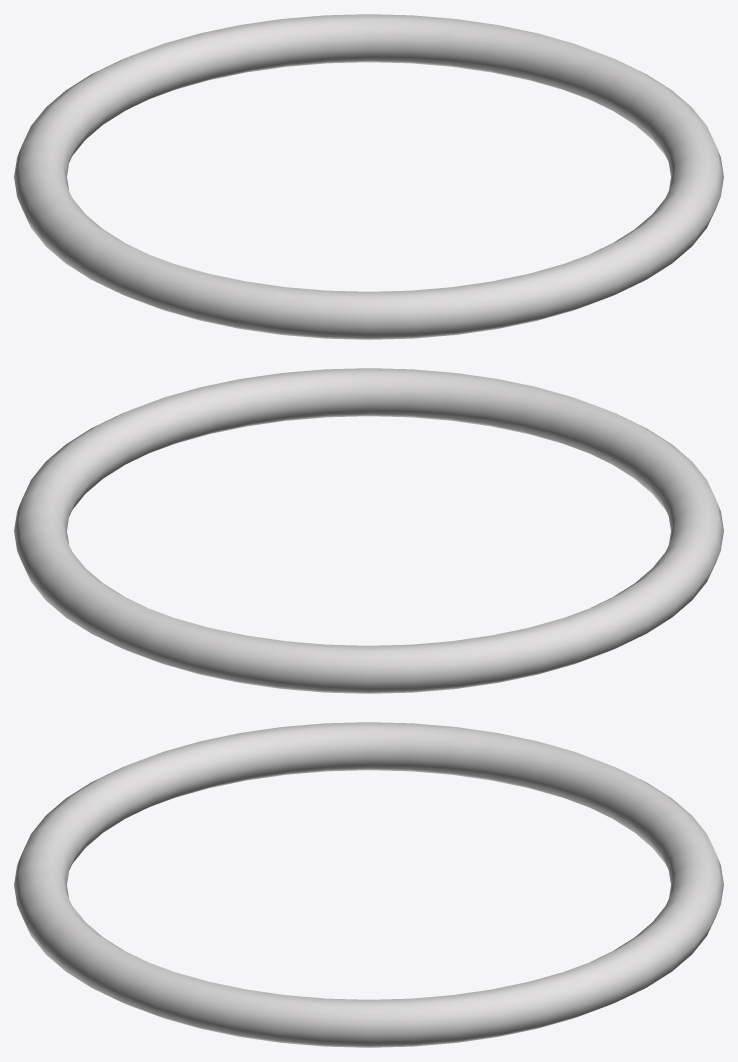
The model's file is Acc_HaloR1.glb.
The picture shows the model from 3 angles, top to bottom: view 1: azimuth 30°, elevation 25°; view 2: azimuth 150°, elevation 25°; view 3: azimuth 270°, elevation 25°; orthographic projection.
Parts seen in each view (by area): view 1: HaloR1; view 2: HaloR1; view 3: HaloR1.
Part boxes in pixels (box(x1,y1,x2,y2)): HaloR1: box(14, 14, 723, 339); HaloR1: box(14, 368, 723, 693); HaloR1: box(14, 722, 723, 1047).
Size of the model in its own units: 1.34 by 0.0856 by 1.34.
Materials: 1 (1 with a texture image).
